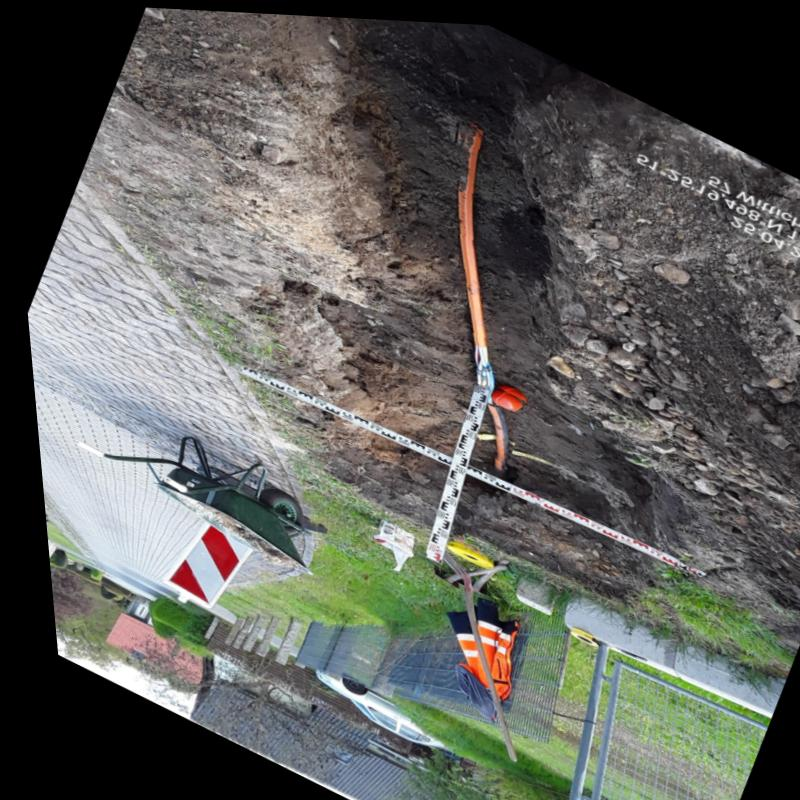Kugelmarker: (484, 385, 516, 405)
Orang-Speednetrohrchen: (454, 121, 501, 460)
